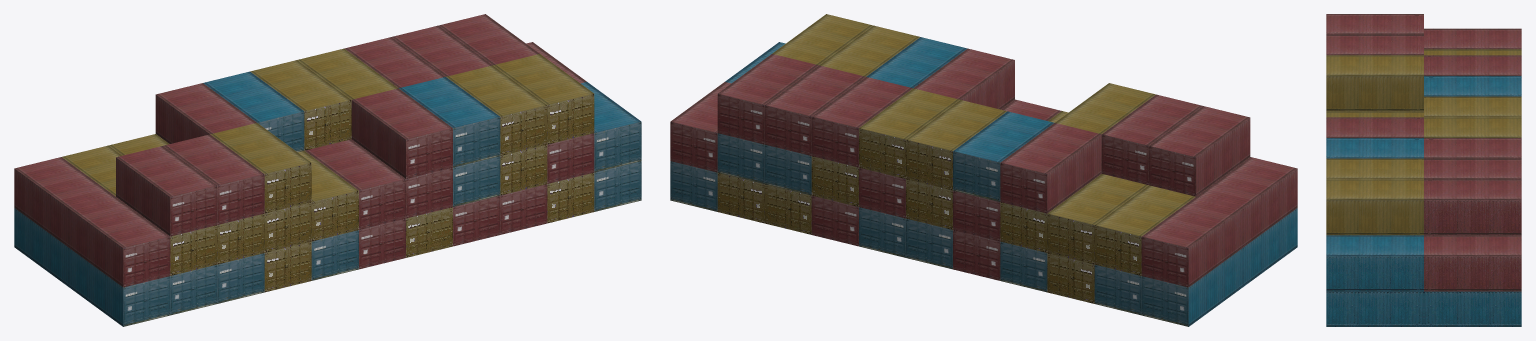
The model's file is vegasnfrates1.obj.
3 views of the same model, side by side, from view 1: azimuth 30°, elevation 25°; view 2: azimuth 150°, elevation 25°; view 3: azimuth 270°, elevation 25° (orthographic). The views are drawn at different scales.
Visible parts, largest first — view 1: vegasnfrates1; view 2: vegasnfrates1; view 3: vegasnfrates1.
Part boxes in pixels (<box>): vegasnfrates1: <box>14,14,641,326</box>; vegasnfrates1: <box>670,14,1297,326</box>; vegasnfrates1: <box>1326,14,1521,326</box>.
Size of the model in its own units: 55 by 12 by 20.
Materials: 6 (6 with a texture image).
